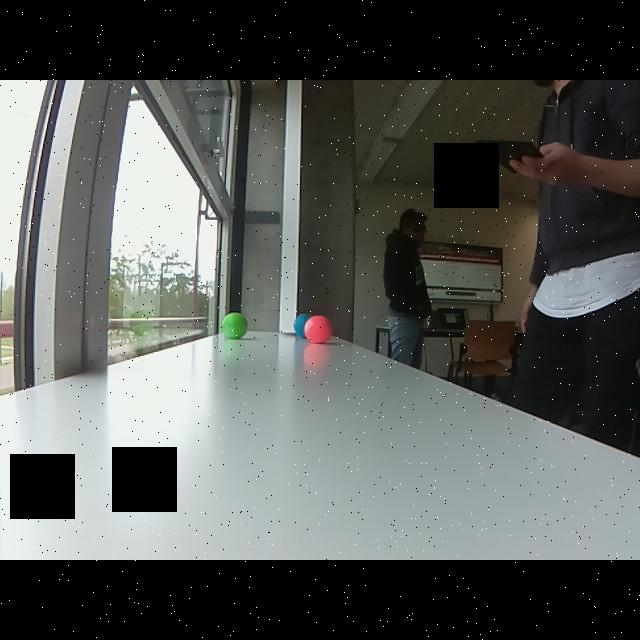ball: (302, 312, 334, 348), (218, 309, 248, 340)
